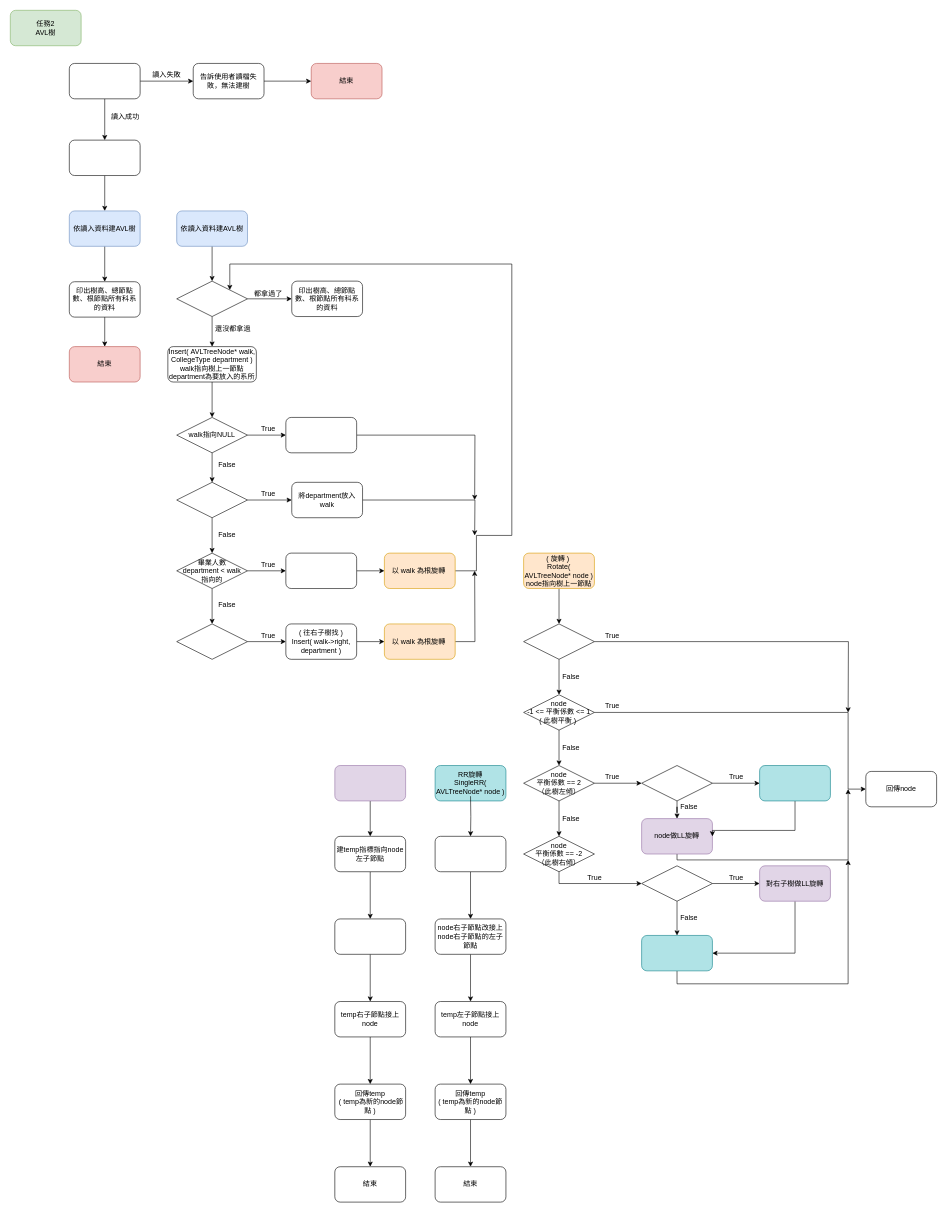
Some shapes in this 947 by 1212 pixel diagram are drawn without their labels. The box of each missing label's shape, as (x1, y1, x2, y2) in pixels:
( 往左子樹找 ) Insert( walk->left, department ): (285, 553, 357, 589)
LL旋轉 SingleLL( AVLTreeNode* node ): (334, 765, 406, 801)
node做RR旋轉: (641, 935, 712, 971)
node右子樹 平衡係數 == 1 （右子樹左傾）: (641, 865, 712, 901)
node左子樹 平衡係數 == -1 （左子樹右傾）: (641, 765, 712, 801)
node左子節點改接上node左子節點的右子節點: (334, 918, 406, 954)
node指向NULL: (523, 623, 594, 659)
在此處建節點，放入department: (285, 417, 357, 453)
將AVL樹 初始化: (69, 140, 140, 176)
將讀入資料一筆一筆拿出: (176, 281, 248, 317)
對左子樹做RR旋轉: (759, 765, 830, 801)
建temp指標指向node右子節點: (435, 836, 506, 872)
畢業人數 department == walk 指向的: (176, 482, 248, 518)
畢業人數 department > walk 指向的: (176, 623, 248, 659)
讀入檔案: (69, 63, 140, 99)
